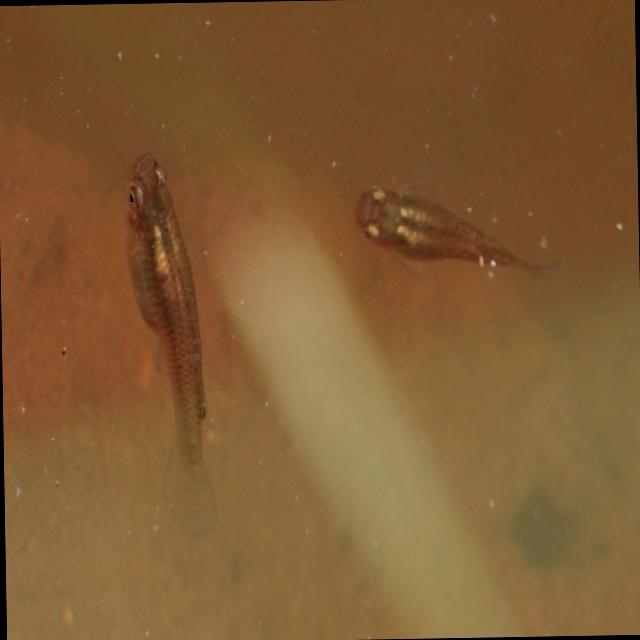Sivrisinek Baligi: (120, 150, 220, 542), (338, 172, 562, 298)
